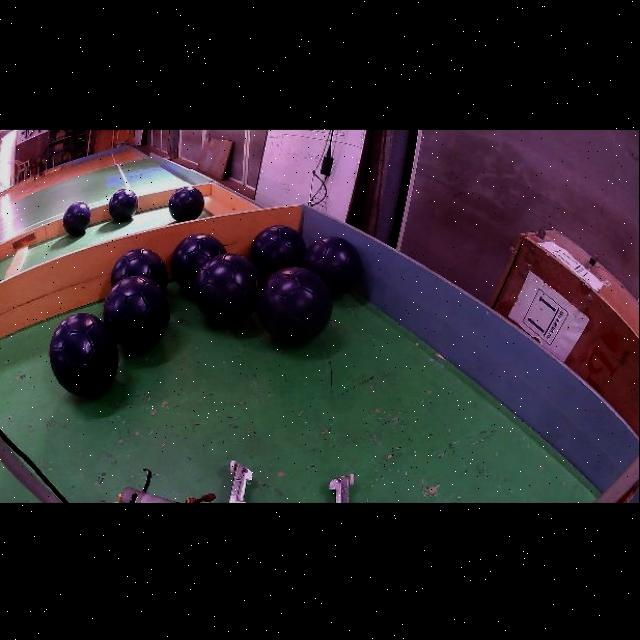B: (256, 266, 333, 343), (50, 313, 118, 396), (103, 274, 170, 350), (194, 252, 263, 322), (303, 235, 361, 295), (172, 233, 226, 291), (251, 225, 307, 270), (111, 248, 168, 290), (169, 186, 204, 221), (109, 187, 138, 221), (63, 202, 91, 235)
